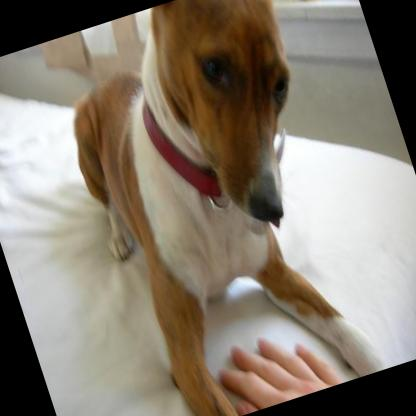basenji: (36, 0, 397, 416)
